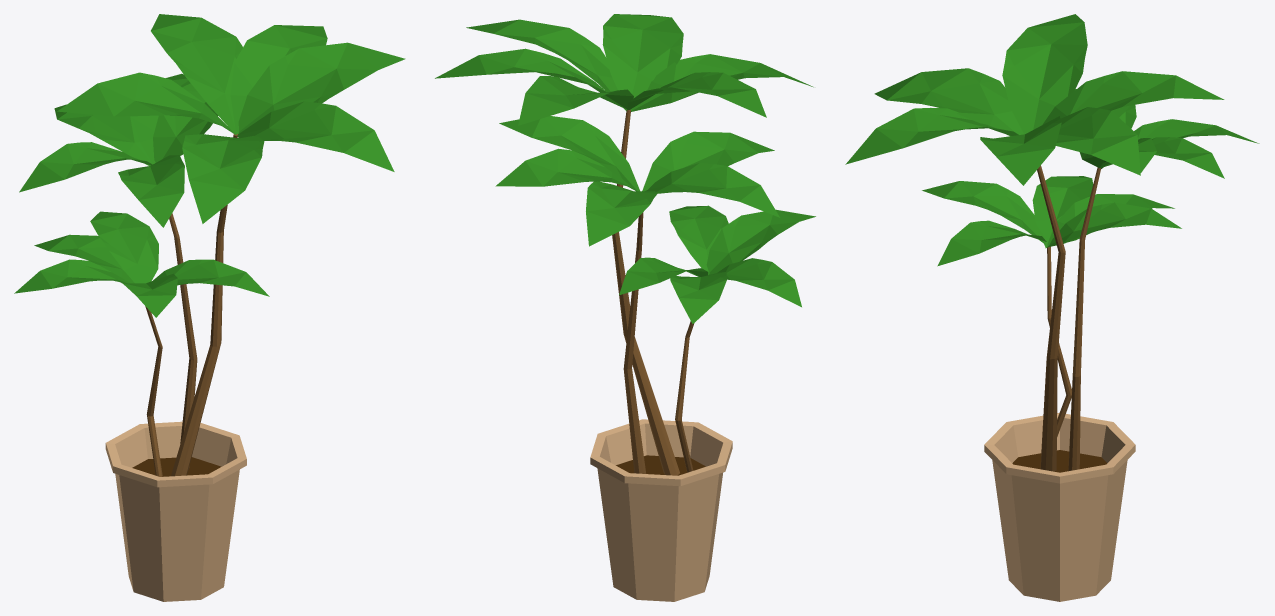
File: PlantitaEscenario2.fbx
3 views of the same model, side by side, from view 1: azimuth 30°, elevation 25°; view 2: azimuth 150°, elevation 25°; view 3: azimuth 270°, elevation 25° (orthographic). The views are drawn at different scales.
Visible parts, largest first — view 1: Cylinder001; view 2: Cylinder001; view 3: Cylinder001.
Boxes of the visible parts, x1,y1,x2,y2 form: Cylinder001: [14, 14, 405, 601]; Cylinder001: [435, 14, 815, 601]; Cylinder001: [845, 14, 1259, 601].
Size of the model in its own units: 27.36 by 36.46 by 26.17.
